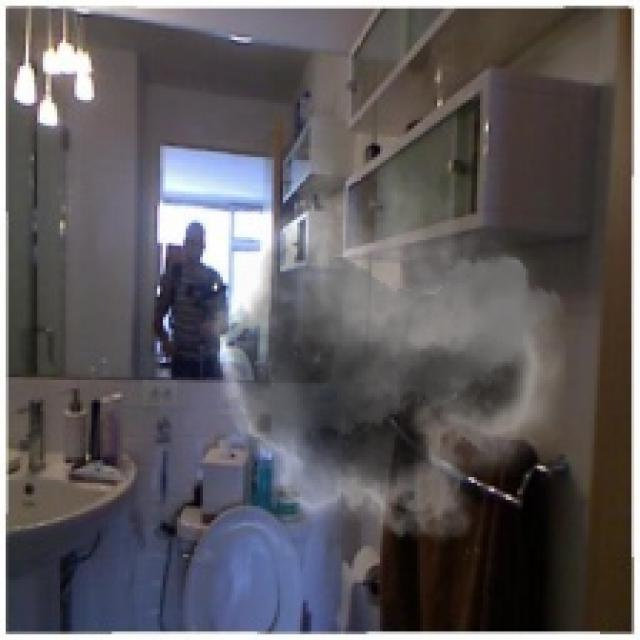smoke: (185, 146, 566, 560)
